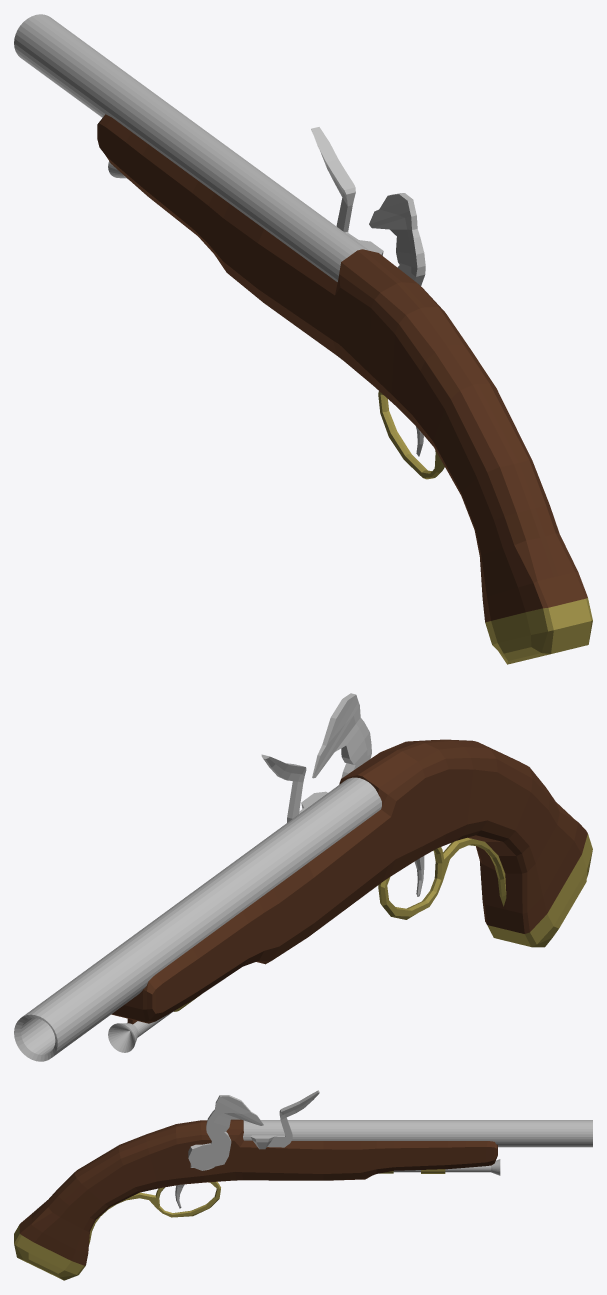
File: Flintlock.fbx
3 views of the same model, one above another, from view 1: azimuth 30°, elevation 25°; view 2: azimuth 150°, elevation 25°; view 3: azimuth 270°, elevation 25° (orthographic). The views are drawn at different scales.
Visible parts, largest first — view 1: Flintlock; view 2: Flintlock; view 3: Flintlock.
Boxes of the visible parts, x1,y1,x2,y2 form: Flintlock: (14,14,592,664); Flintlock: (14,693,592,1061); Flintlock: (14,1090,592,1280).
Size of the model in its own units: 2.03 by 10.91 by 30.01.
